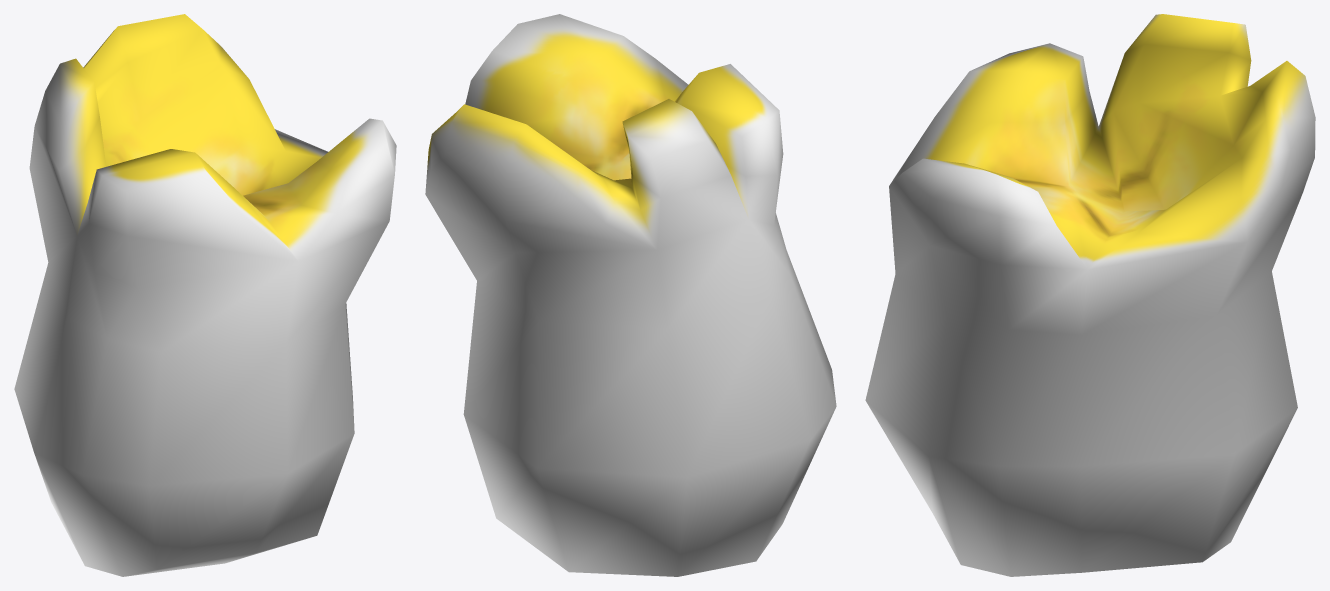
Rendered from asset_patlamis_misir_3.fbx.
3 renders of one model, left to right at view 1: azimuth 30°, elevation 25°; view 2: azimuth 150°, elevation 25°; view 3: azimuth 270°, elevation 25°, orthographic. The views are drawn at different scales.
Parts seen in each view (by area): view 1: patlamis_misir_3; view 2: patlamis_misir_3; view 3: patlamis_misir_3.
Boxes of the visible parts, <box> form: patlamis_misir_3: <box>14,14,396,576</box>; patlamis_misir_3: <box>425,14,836,576</box>; patlamis_misir_3: <box>865,14,1315,576</box>.
Size of the model in its own units: 60.37 by 81.16 by 63.3.
1 material, 1 textured.
